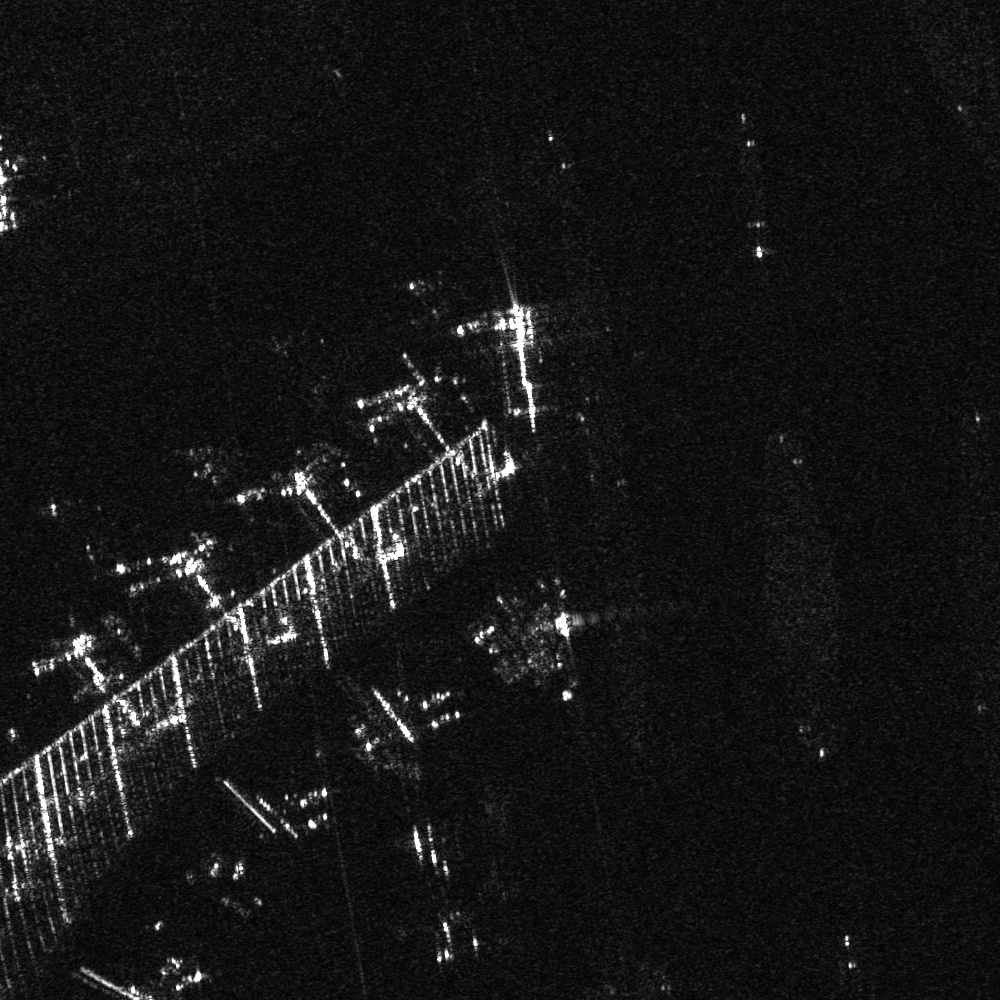A220: (408, 278, 461, 322)
